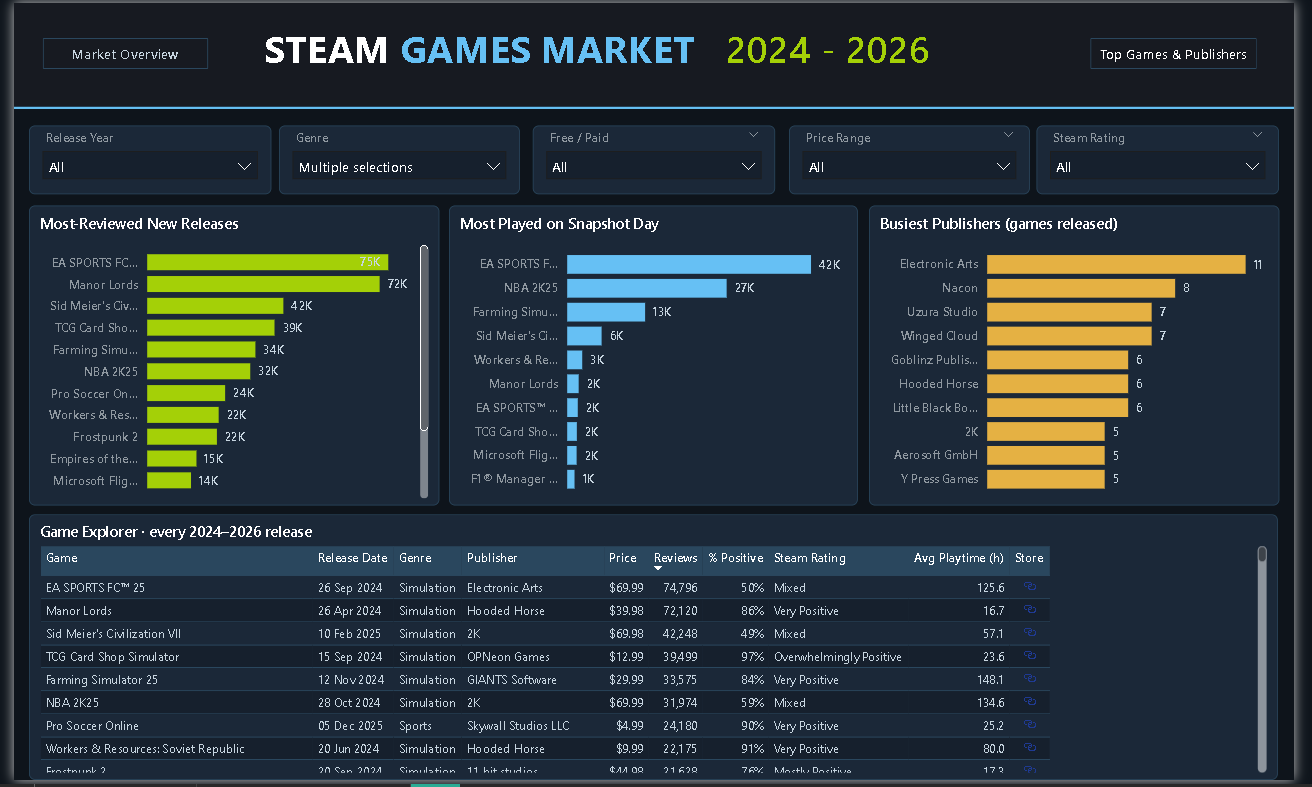

The page's visual inventory and layout, read from the dashboard file:
{"tool":"powerbi","page":{"name":"Top Games & Publishers","canvas":[1280,777],"ordinal":1},"visuals":[{"type":"shape","box":[0,0,1280,103.3],"z":1000},{"type":"shape","box":[0,103.3,1280,2.2],"z":2000},{"type":"textbox","box":[244.4,15.6,791.1,71.1],"z":3000},{"type":"actionButton","box":[28.9,35.6,165.6,31.1],"z":5000},{"type":"actionButton","box":[1076.7,35.6,166.7,31.1],"z":6000},{"type":"slicer","fields":{"Values":["SteamGames.Release Year"]},"box":[15.6,122.2,242.2,68.9],"z":7000},{"type":"slicer","fields":{"Values":["SteamGames.Genre"]},"box":[265.6,122.2,241.1,68.9],"z":8000},{"type":"slicer","fields":{"Values":["SteamGames.Pricing"]},"box":[518.9,122.2,242.2,68.9],"z":9000},{"type":"slicer","fields":{"Values":["SteamGames.Price Tier"]},"box":[775.6,122.2,241.1,68.9],"z":10000},{"type":"slicer","fields":{"Values":["SteamGames.Review Tier"]},"box":[1022.2,122.2,242.2,68.9],"z":11000},{"type":"clusteredBarChart","title":"Most-Reviewed New Releases","fields":{"Category":["SteamGames.Game"],"Y":["SteamGames.Total Reviews"]},"box":[15.6,202.2,410,300],"z":12000},{"type":"clusteredBarChart","title":"Most Played on Snapshot Day","fields":{"Category":["SteamGames.Game"],"Y":["SteamGames.Peak Players"]},"box":[435.6,202.2,408.9,300],"z":13000},{"type":"clusteredBarChart","title":"Busiest Publishers (games released)","fields":{"Category":["SteamGames.Publisher"],"Y":["SteamGames.Games Released"]},"box":[854.4,202.2,410,300],"z":14000},{"type":"tableEx","title":"Game Explorer · every 2024–2026 release ","fields":{"Values":["SteamGames.Game","SteamGames.Release Date","SteamGames.Genre","SteamGames.Publisher","SteamGames.List Price (USD)","SteamGames.Reviews","SteamGames.Positive Rate","SteamGames.Review Tier","SteamGames.Playtime (hrs)","SteamGames.Steam Page"]},"box":[15.6,511.1,1248.9,265.6],"z":15000}]}

Visuals, with their boxes in screenshot pixels (x1, y1, x2, y2), scaled from the page's 1280x777 canvas onto the 1312x787 screenshot:
shape: (0,0,1311,105)
shape: (0,105,1311,107)
textbox: (251,16,1061,88)
actionButton: (30,36,199,68)
actionButton: (1104,36,1274,68)
slicer - SteamGames.Release Year: (16,124,264,194)
slicer - SteamGames.Genre: (272,124,519,194)
slicer - SteamGames.Pricing: (532,124,780,194)
slicer - SteamGames.Price Tier: (795,124,1042,194)
slicer - SteamGames.Review Tier: (1048,124,1296,194)
"Most-Reviewed New Releases" clusteredBarChart: (16,205,436,509)
"Most Played on Snapshot Day" clusteredBarChart: (446,205,866,509)
"Busiest Publishers (games released)" clusteredBarChart: (876,205,1296,509)
"Game Explorer · every 2024–2026 release " tableEx: (16,518,1296,786)
